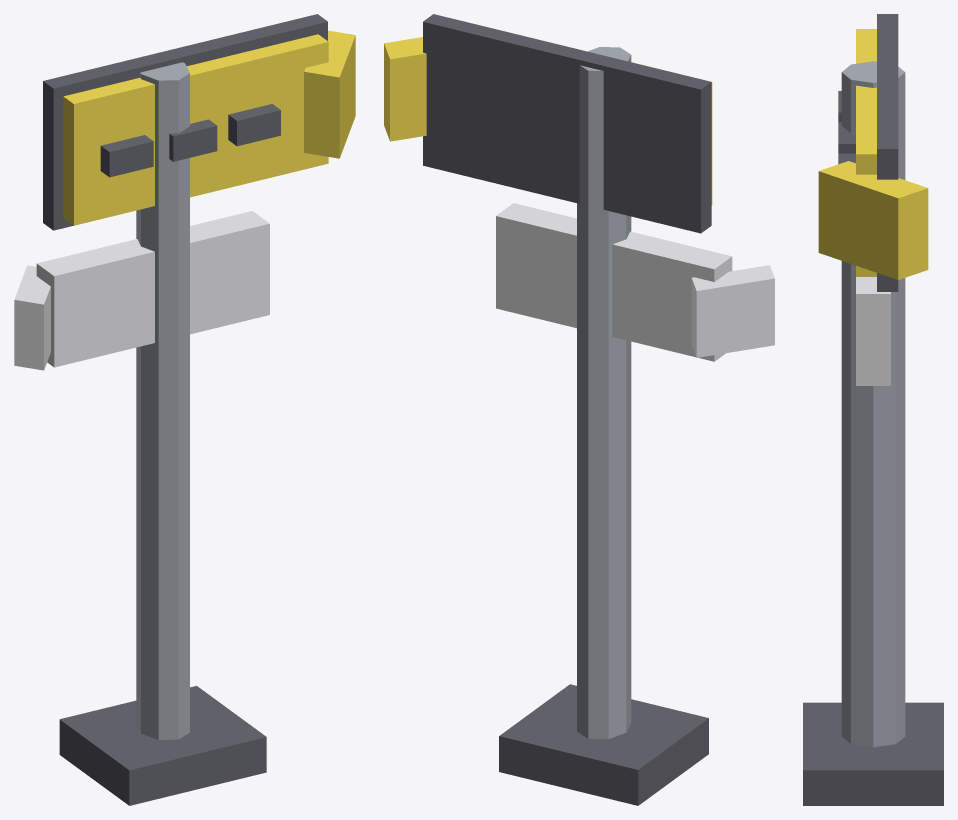
The model's file is sign_dir.glb.
The picture shows the model from 3 angles, left to right: view 1: azimuth 30°, elevation 25°; view 2: azimuth 150°, elevation 25°; view 3: azimuth 270°, elevation 25°; orthographic projection.
Visible parts, largest first — view 1: sign_dir; view 2: sign_dir; view 3: sign_dir.
Boxes of the visible parts, x1,y1,x2,y2 form: sign_dir: [14, 14, 355, 805]; sign_dir: [384, 14, 774, 805]; sign_dir: [803, 14, 943, 805].
Size of the model in its own units: 0.75 by 1.38 by 0.25.
